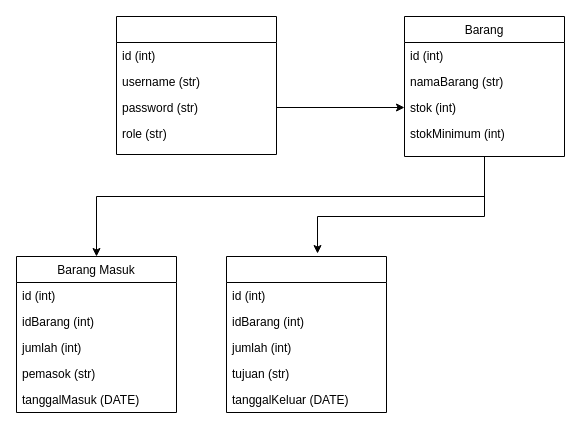
This 581x429 diagram has some shape labels left out. Here are the shapes that lost their labels. From the top down, the box of each, then its label:
(116, 16, 276, 154): Users
(226, 256, 386, 412): Professor
